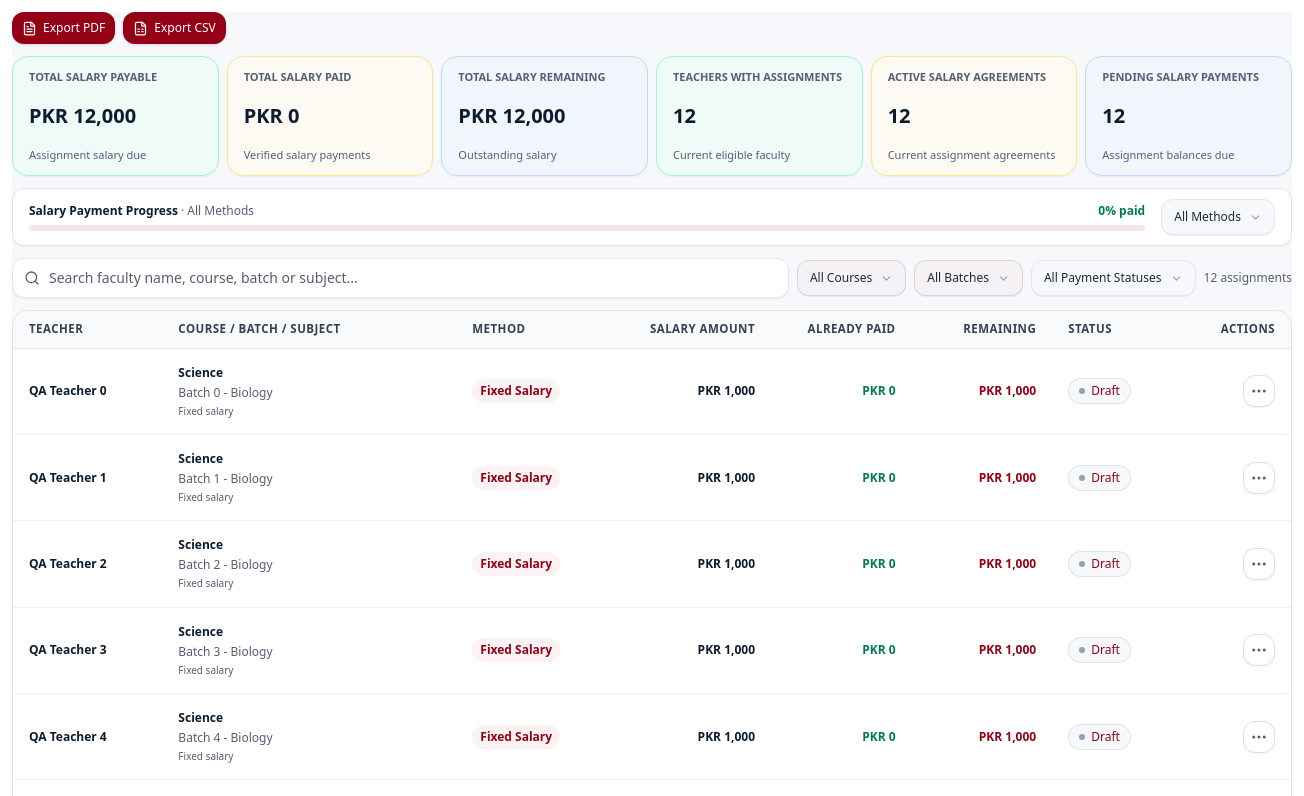
Test case: keeps running balances visible with Add Payment and no approval or month controls
Click the button named "Payroll actions for" at (1259, 391), box [1243,375,1275,407]
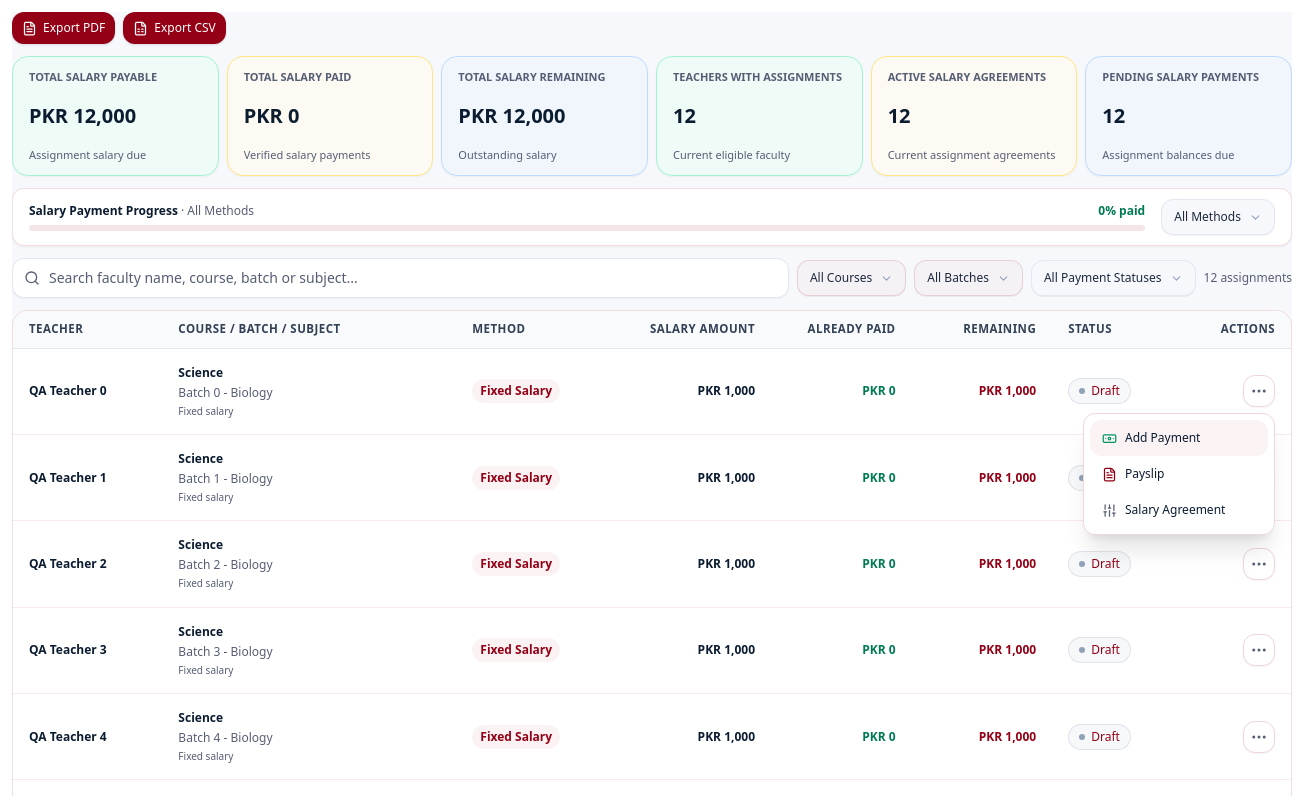
Expected: the menu item "Add Payment" is shown, [1090,420,1268,456]
Press Escape in the menu, box [1083,413,1275,535]
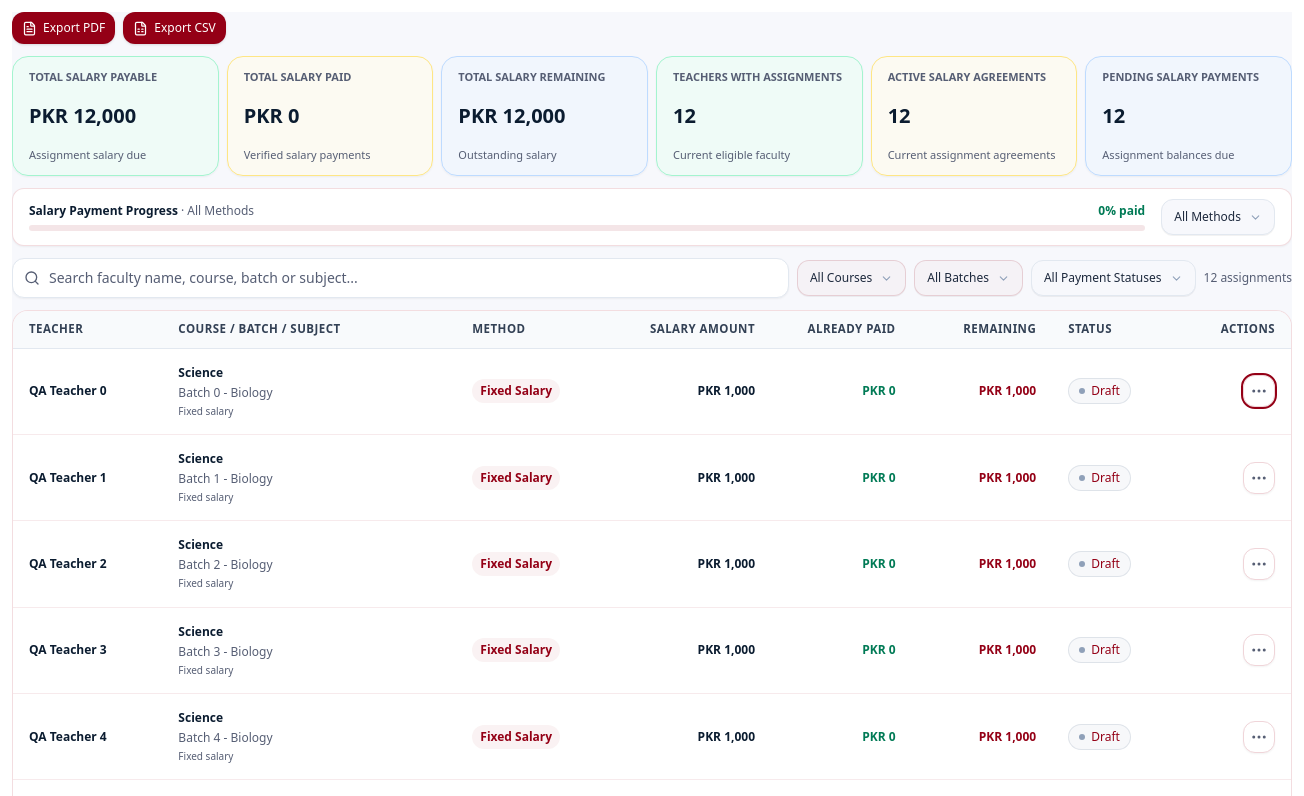
Expected: the menu is gone
